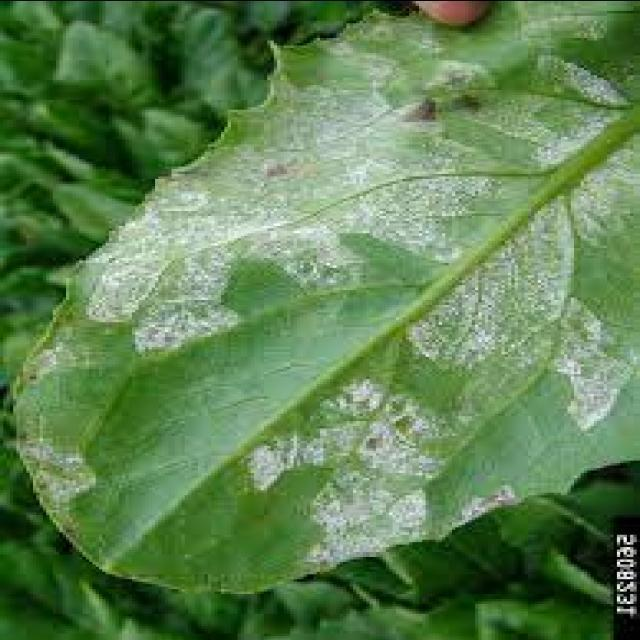Downy_mildew_on_lettuce: (248, 135, 634, 444)
